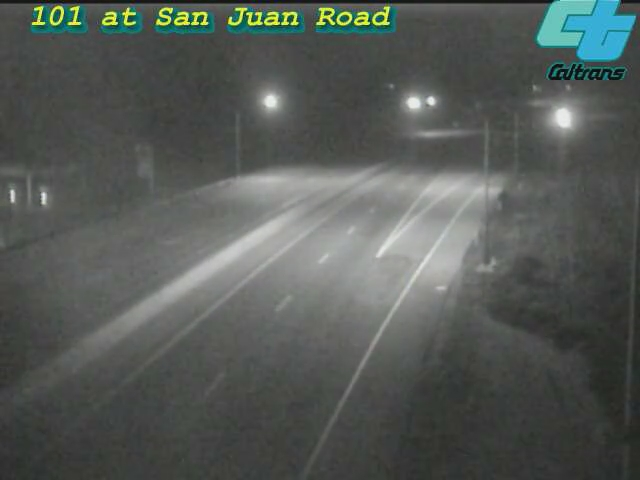vehicle: (535, 93, 585, 143)
